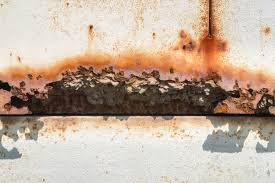rust: (5, 61, 275, 118), (203, 1, 220, 42), (177, 30, 198, 55), (85, 22, 97, 34), (149, 29, 158, 42)
